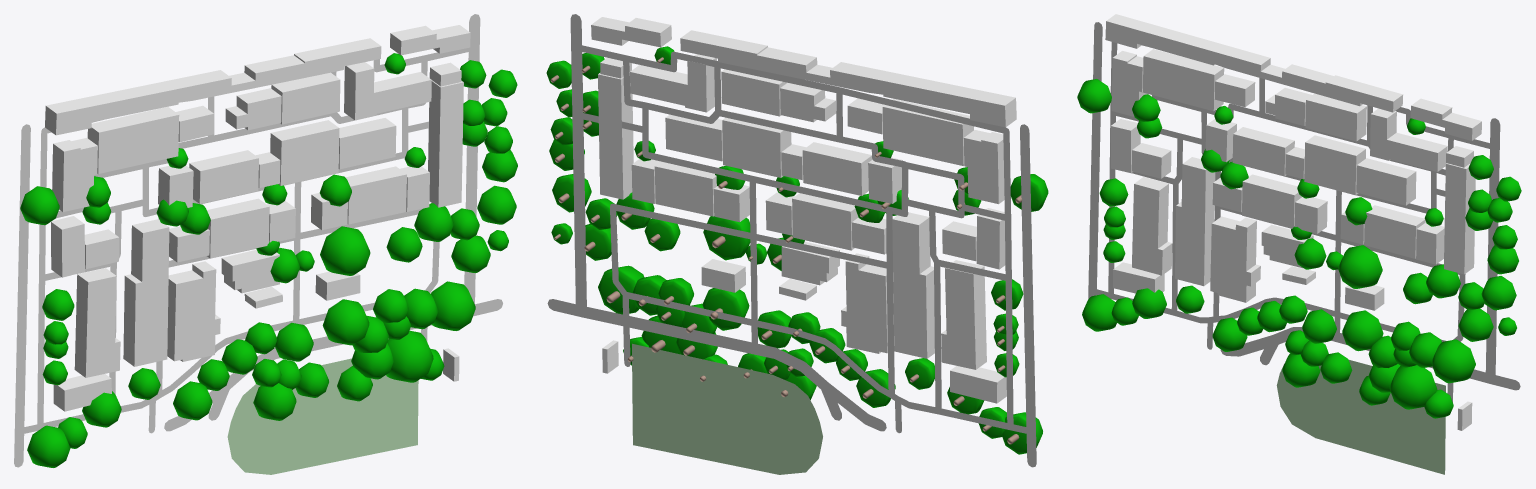
The picture shows the model from 3 angles, left to right: view 1: azimuth 30°, elevation 25°; view 2: azimuth 150°, elevation 25°; view 3: azimuth 330°, elevation 25°; orthographic projection. The views are drawn at different scales.
Visible parts, largest first — view 1: TPX_Buildings, TPX_RoadsOutlines, TPX_GreenAreas, TPX_Trees_crown_0 (×8), TPX_Trees_crown_9 (×11), TPX_Trees_crown_8 (×7), TPX_Trees_crown_4 (×3), TPX_Trees_crown_6 (×2), TPX_Trees_crown_14 (×4), TPX_Trees_crown_1, TPX_Trees_crown_12, TPX_Trees_crown_10 (+1 smaller); view 2: TPX_Buildings, TPX_RoadsOutlines, TPX_GreenAreas, TPX_Trees_crown_0 (×7), TPX_Trees_crown_9 (×6), TPX_Trees_crown_8 (×4), TPX_Trees_crown_6 (×2), TPX_Trees_crown_4 (×2), TPX_Trees_crown_12, TPX_Trees_crown_10, TPX_Trees_crown_14, TPX_Trees_crown_1; view 3: TPX_Buildings, TPX_RoadsOutlines, TPX_GreenAreas, TPX_Trees_crown_0 (×8), TPX_Trees_crown_9 (×10), TPX_Trees_crown_8 (×7), TPX_Trees_crown_6 (×2), TPX_Trees_crown_4 (×3), TPX_Trees_crown_14 (×4), TPX_Trees_crown_1, TPX_Trees_crown_12, TPX_Trees_crown_10 (+1 smaller).
Boxes of the visible parts, <box> form: TPX_Buildings: <box>45,25,470,411</box>; TPX_RoadsOutlines: <box>14,14,502,467</box>; TPX_GreenAreas: <box>227,358,418,474</box>; TPX_Trees_crown_0 (×8): <box>20,185,516,427</box>; TPX_Trees_crown_9 (×11): <box>42,174,479,448</box>; TPX_Trees_crown_8 (×7): <box>221,150,517,401</box>; TPX_Trees_crown_4 (×3): <box>27,343,393,467</box>; TPX_Trees_crown_6 (×2): <box>320,226,475,330</box>; TPX_Trees_crown_14 (×4): <box>460,60,517,153</box>; TPX_Trees_crown_1: <box>386,330,433,382</box>; TPX_Trees_crown_12: <box>322,299,369,345</box>; TPX_Trees_crown_10: <box>404,288,438,329</box>; TPX_Buildings: <box>591,17,1016,403</box>; TPX_RoadsOutlines: <box>547,14,1036,467</box>; TPX_GreenAreas: <box>632,343,822,474</box>; TPX_Trees_crown_0 (×7): <box>552,174,1048,407</box>; TPX_Trees_crown_9 (×6): <box>585,198,1023,438</box>; TPX_Trees_crown_8 (×4): <box>549,139,845,363</box>; TPX_Trees_crown_6 (×2): <box>598,216,750,314</box>; TPX_Trees_crown_4 (×2): <box>676,332,1042,454</box>; TPX_Trees_crown_12: <box>702,288,749,330</box>; TPX_Trees_crown_10: <box>633,275,666,315</box>; TPX_Trees_crown_14: <box>546,60,571,88</box>; TPX_Trees_crown_1: <box>641,315,679,354</box>; TPX_Buildings: <box>1105,14,1481,430</box>; TPX_RoadsOutlines: <box>1088,22,1520,402</box>; TPX_GreenAreas: <box>1276,360,1445,474</box>; TPX_Trees_crown_0 (×8): <box>1077,79,1516,367</box>; TPX_Trees_crown_9 (×10): <box>1099,94,1484,366</box>; TPX_Trees_crown_8 (×7): <box>1257,238,1518,405</box>; TPX_Trees_crown_6 (×2): <box>1338,245,1475,383</box>; TPX_Trees_crown_4 (×3): <box>1082,294,1400,393</box>; TPX_Trees_crown_14 (×4): <box>1468,155,1521,249</box>; TPX_Trees_crown_1: <box>1389,365,1437,409</box>; TPX_Trees_crown_12: <box>1342,310,1383,351</box>; TPX_Trees_crown_10: <box>1409,332,1441,367</box>.
Size of the model in its own units: 156 by 129 by 16.
